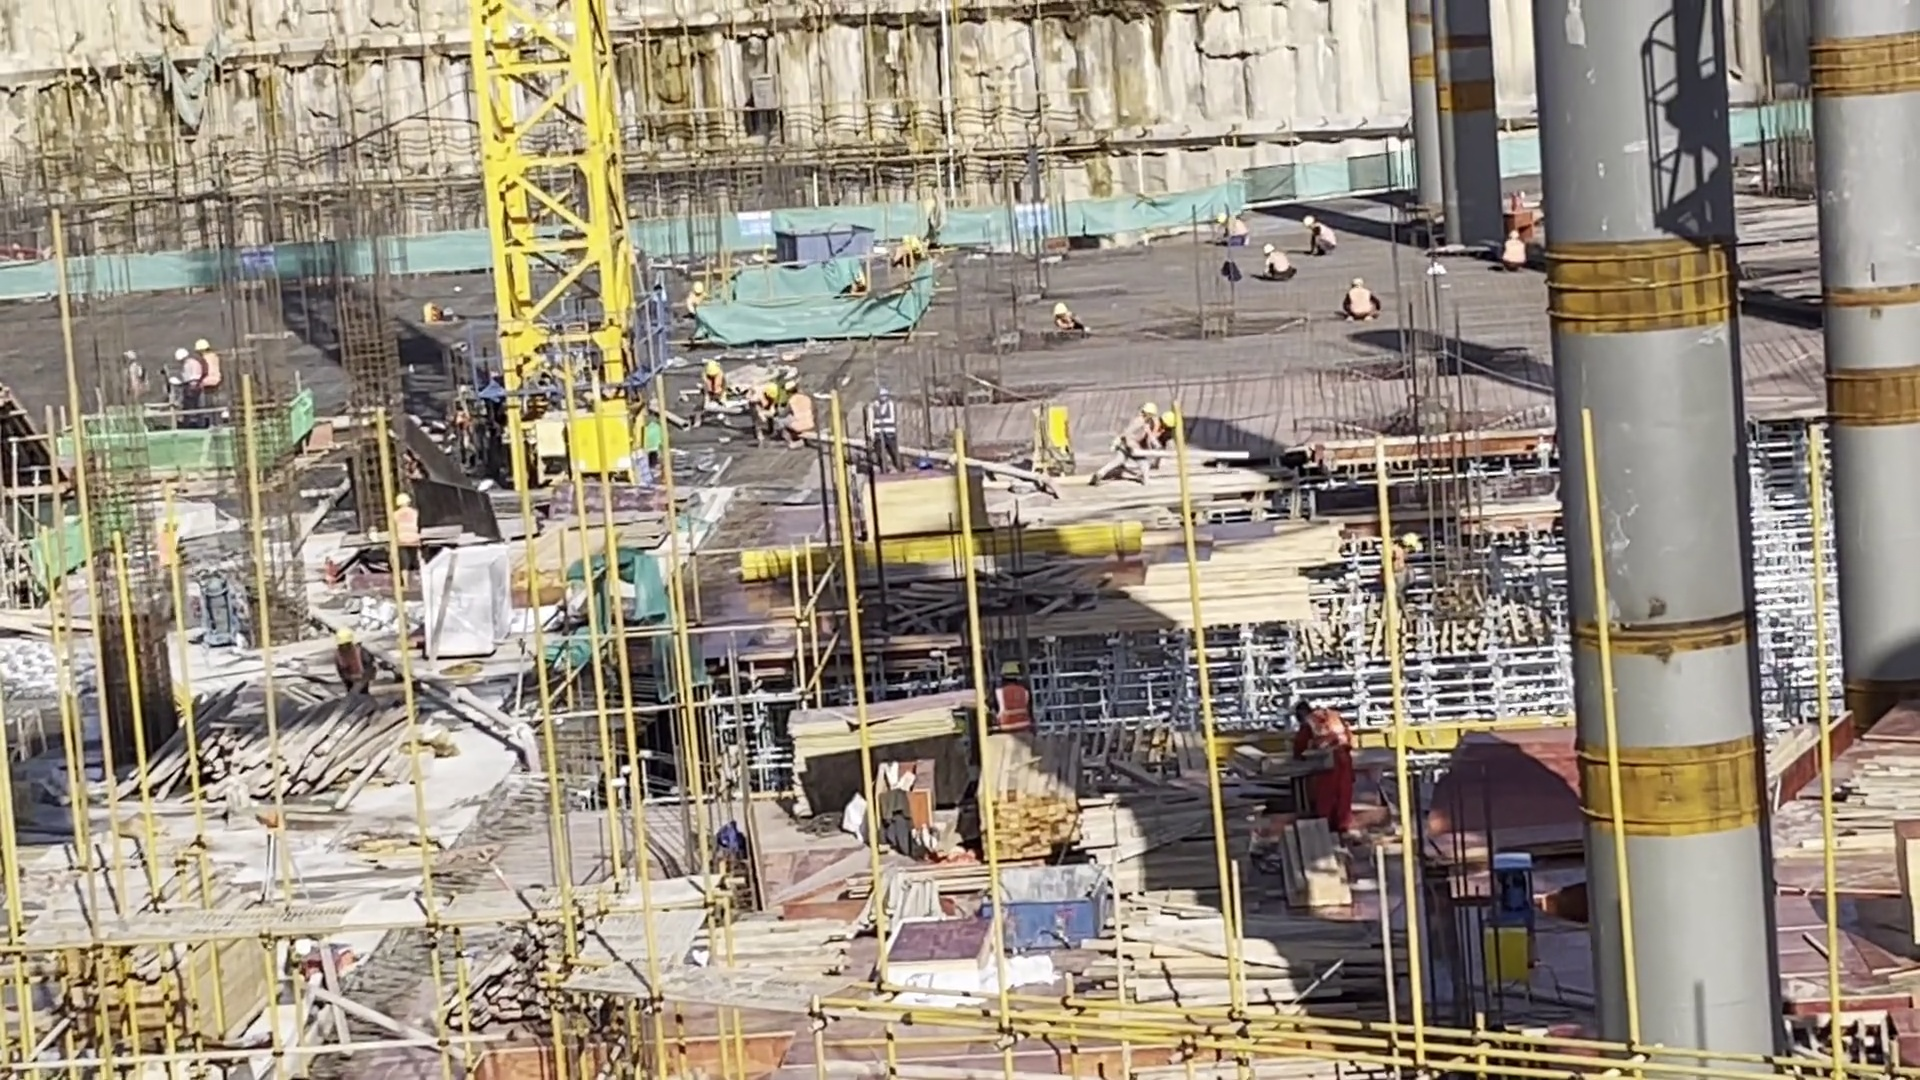helmet: (1290, 705, 1317, 731), (188, 336, 209, 367), (1157, 405, 1175, 437), (993, 656, 1014, 680), (388, 490, 409, 513), (1507, 229, 1528, 252), (168, 346, 186, 367), (701, 358, 717, 378), (1054, 303, 1069, 322), (1300, 214, 1318, 230), (1260, 237, 1272, 257), (1218, 212, 1231, 230), (782, 382, 797, 397), (1350, 278, 1364, 294)
hopper: (976, 851, 1091, 929)
person: (1290, 700, 1360, 834), (388, 487, 429, 586), (190, 342, 237, 426), (990, 660, 1039, 741), (861, 389, 907, 473), (774, 373, 820, 449), (744, 383, 790, 452), (1112, 404, 1155, 468), (1342, 277, 1393, 331), (176, 347, 204, 430), (695, 360, 737, 417), (1300, 210, 1345, 259), (1254, 241, 1299, 284), (1494, 232, 1533, 276), (1211, 210, 1251, 248), (1054, 302, 1091, 338), (683, 284, 716, 323)
vest: (992, 685, 1026, 724), (868, 402, 895, 439), (396, 509, 418, 551), (1312, 711, 1339, 747), (789, 395, 811, 432), (1318, 225, 1339, 253), (1352, 290, 1369, 321), (1233, 218, 1253, 242), (1267, 256, 1292, 270)
wood: (1069, 878, 1370, 1039), (128, 707, 406, 816), (984, 735, 1091, 864)
